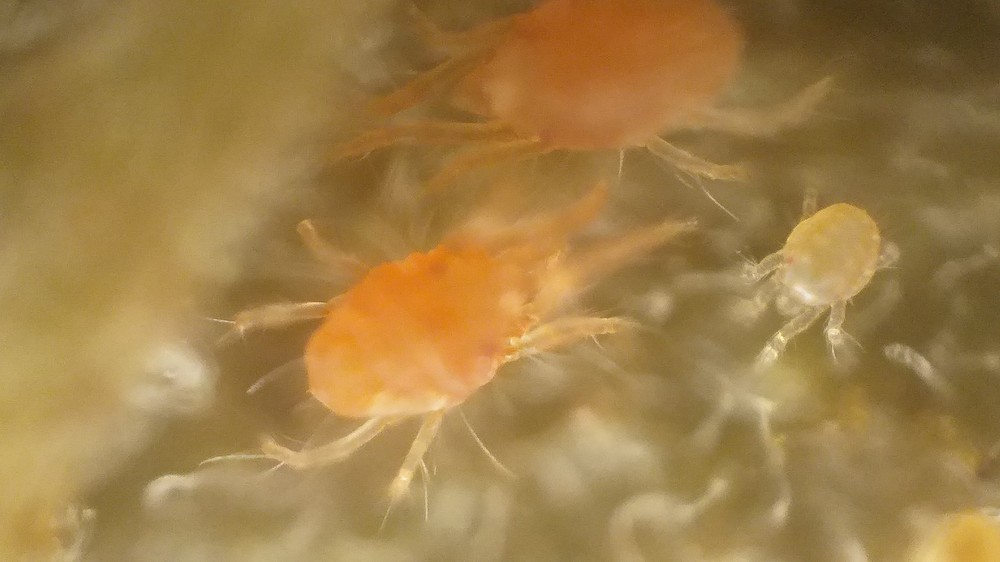Aracnido Rojo: (234, 169, 705, 523), (340, 3, 832, 202), (726, 191, 918, 372)
